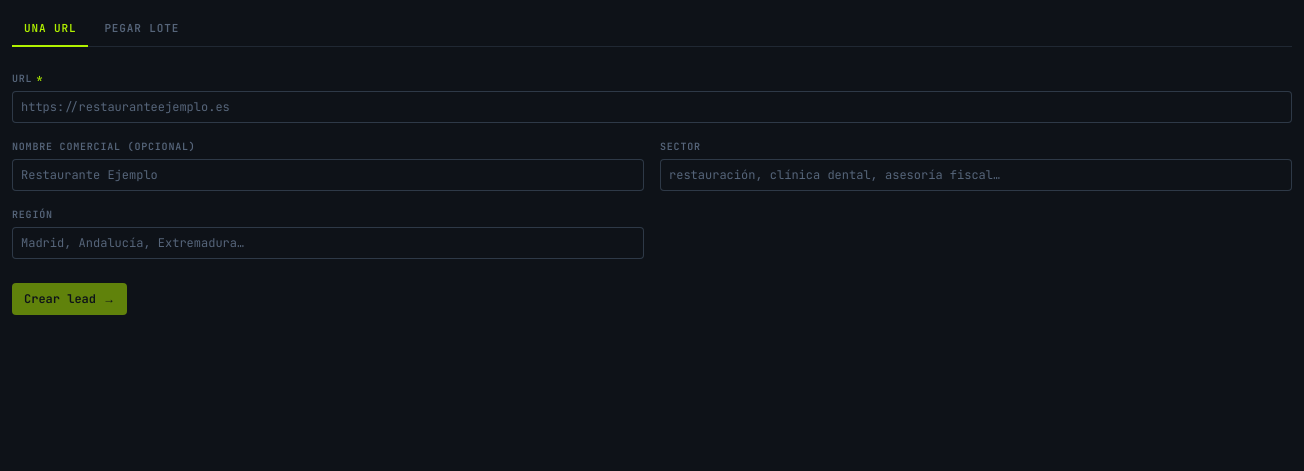
Test: LeadCreateForm tabs › click en 'Pegar lote' muestra textarea
This screenshot has width=1304, height=471.
Click the tab "Pegar lote" at point(142, 29), box [92,12,191,46]
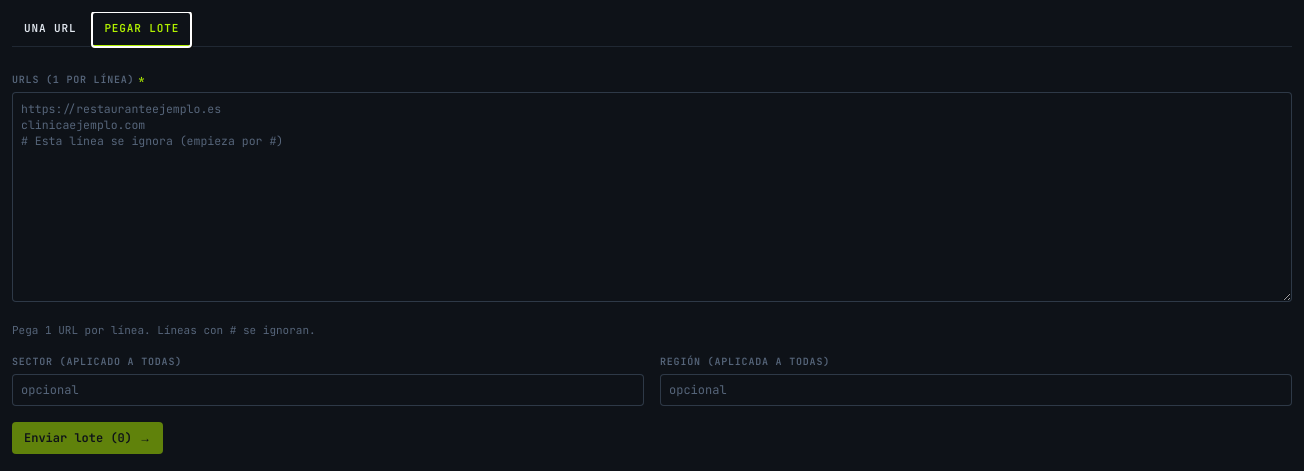
Expected: the text box labelled "URLs (1 por línea)*" is shown, [12,92,1292,302]
